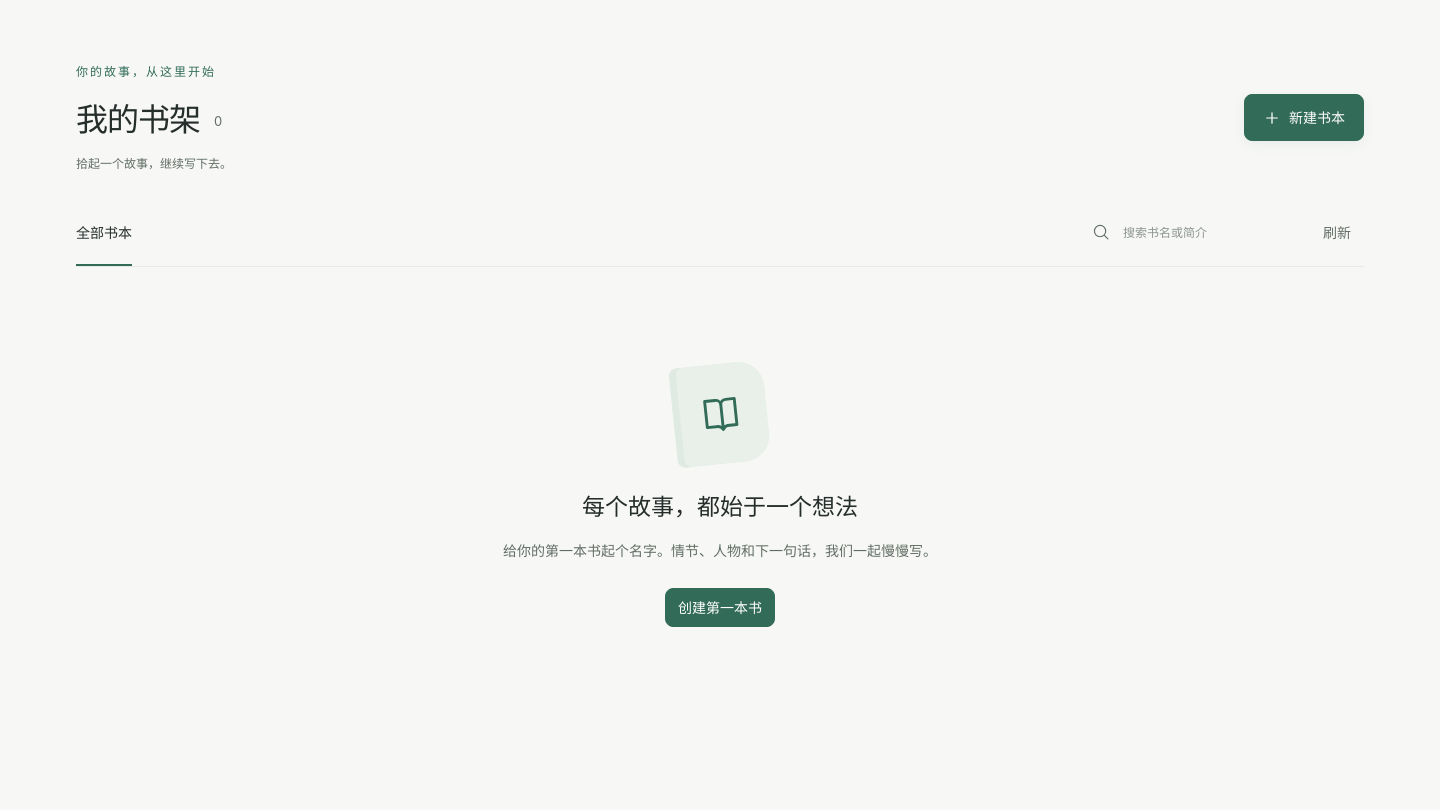
WorkListPanel 新建书本弹窗 › 空书架给出引导，并可再次打开创建弹窗
This screenshot has width=1440, height=810.
Expected: the heading "每个故事，都始于一个想法" is shown, [582, 494, 858, 522]
Click the button "创建第一本书". click: coordinates (720, 607)
box: [665, 588, 775, 627]
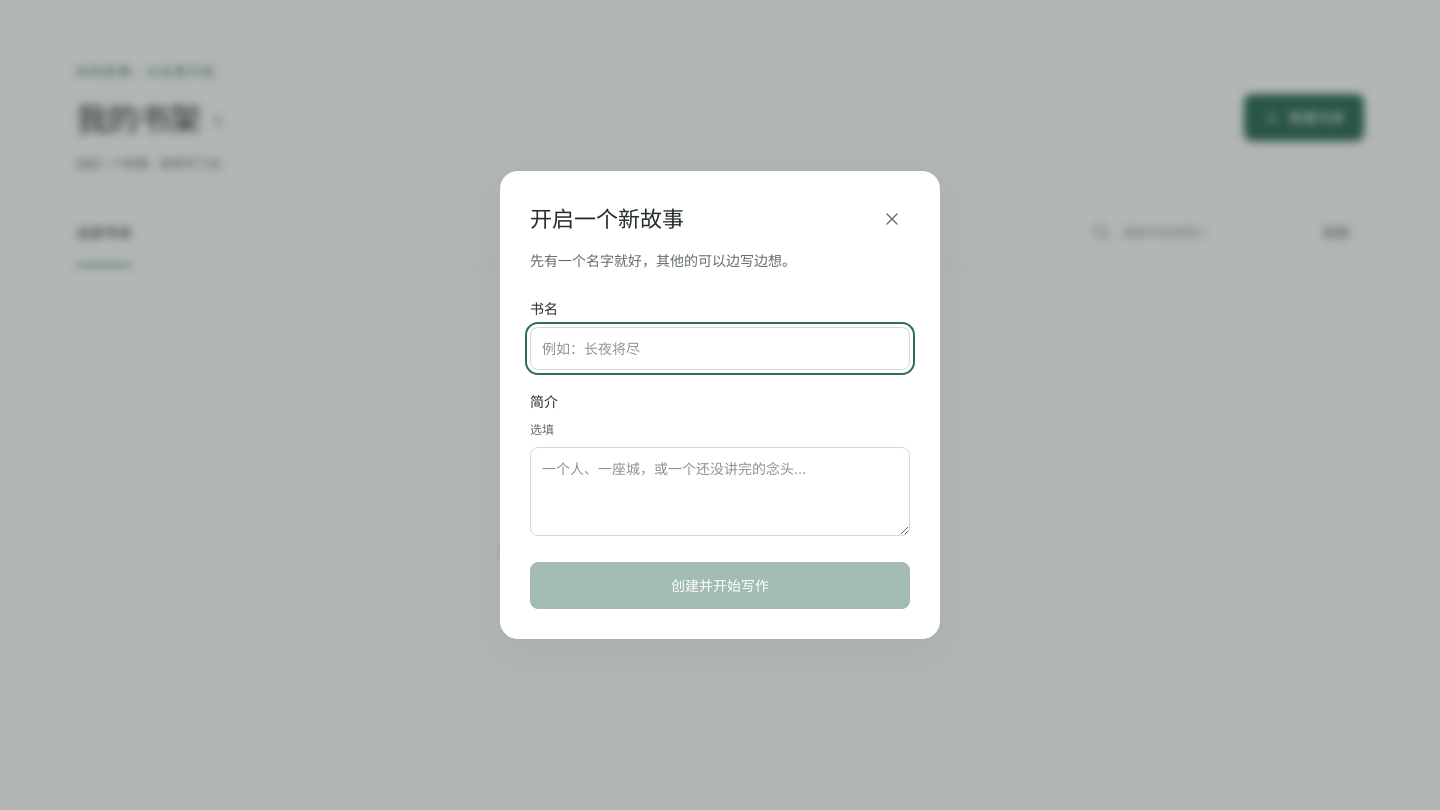
Expected: the dialog "开启一个新故事" is shown, [500, 171, 940, 639]
